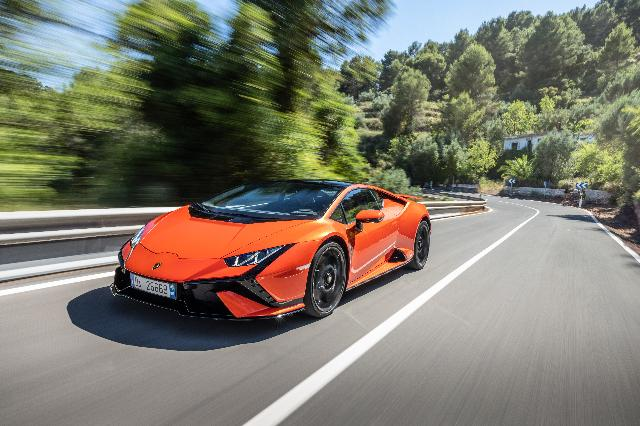lamborghini: (110, 179, 432, 323)
